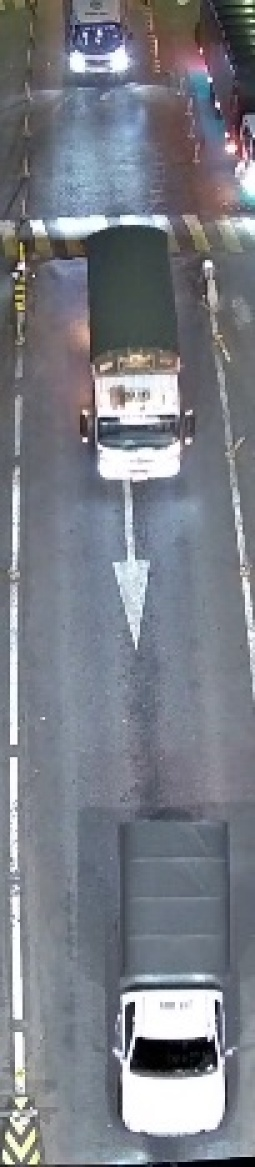truck: (102, 803, 248, 1144), (74, 222, 204, 498)
